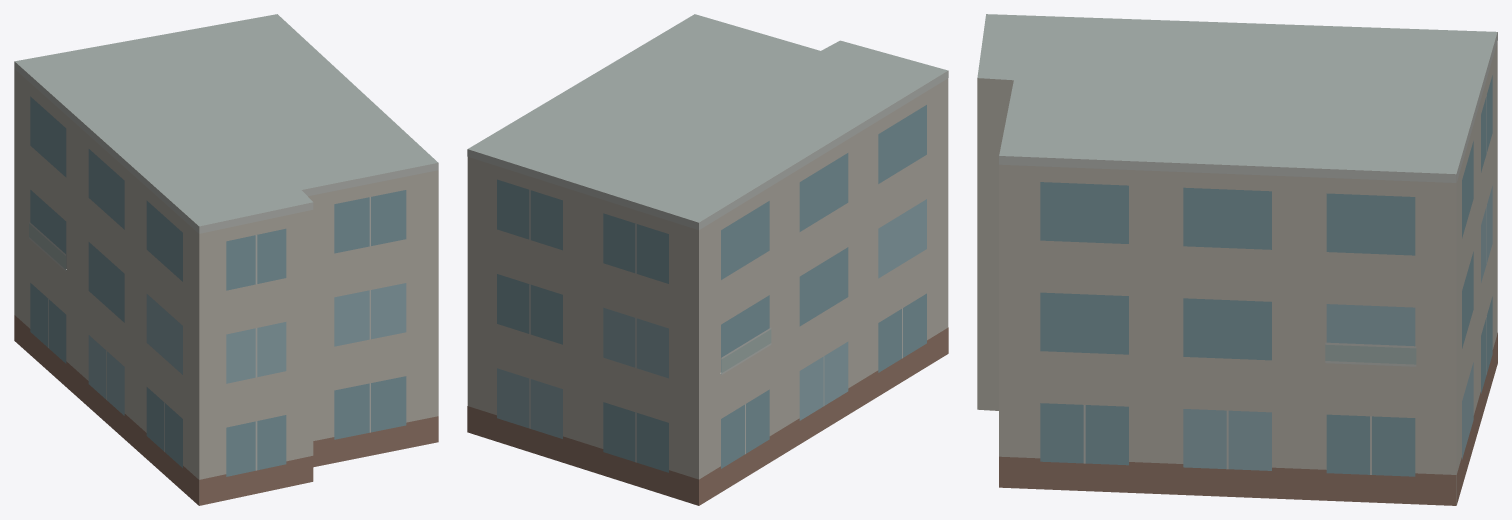
Rendered from survey-upis-32895338.glb.
The picture shows the model from 3 angles, left to right: view 1: azimuth 30°, elevation 25°; view 2: azimuth 150°, elevation 25°; view 3: azimuth 270°, elevation 25°; orthographic projection. The views are drawn at different scales.
Parts seen in each view (by area): view 1: survey-upis-32895338.tmp; view 2: survey-upis-32895338.tmp; view 3: survey-upis-32895338.tmp.
Boxes of the visible parts, <box> form: survey-upis-32895338.tmp: <box>14,14,438,505</box>; survey-upis-32895338.tmp: <box>467,14,948,505</box>; survey-upis-32895338.tmp: <box>977,14,1497,505</box>.
Size of the model in its own units: 9.48 by 9.15 by 13.02.
